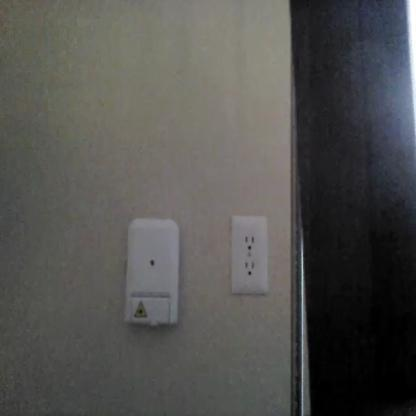OUTLET: (230, 216, 270, 294)
